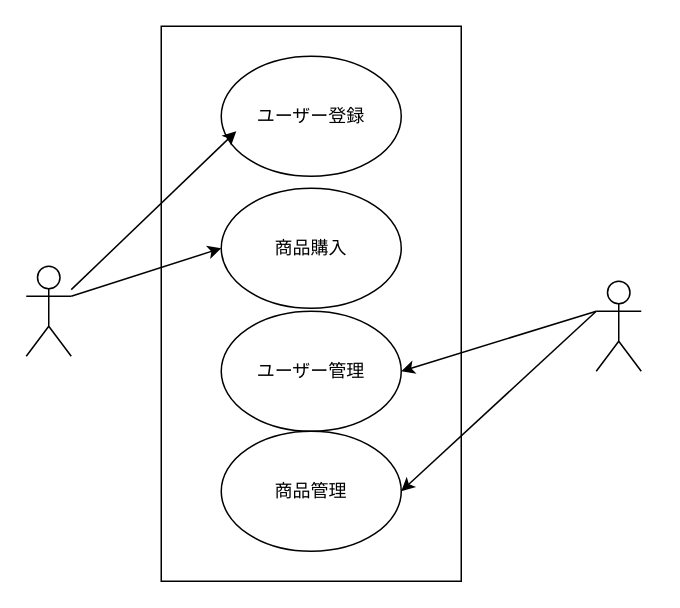
Image size: 680x608. Some labels were removed from this diagram. The centre of each missing label's shape, as x and y in pixels:
manager: point 618,325
user: point 48,310
